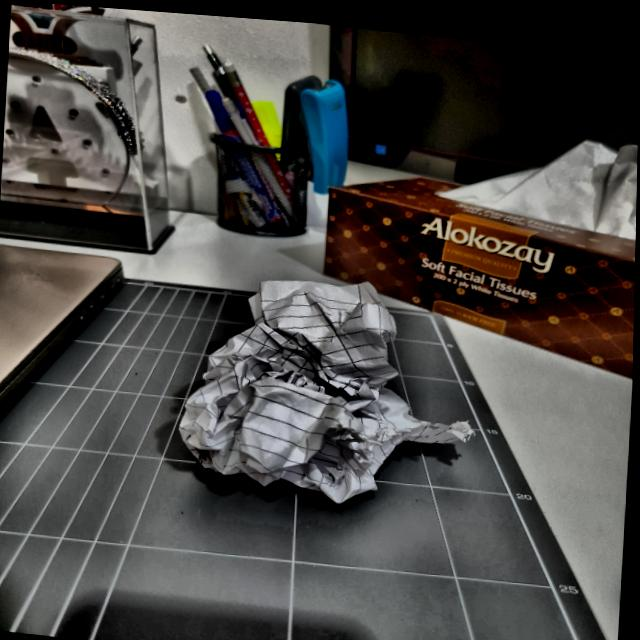Paper: (167, 265, 480, 503)
